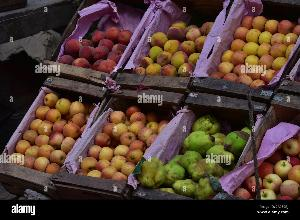apple: (75, 97, 167, 180), (6, 94, 94, 170), (205, 6, 297, 78), (131, 0, 215, 76), (240, 120, 300, 202)
peach: (54, 14, 132, 74)
